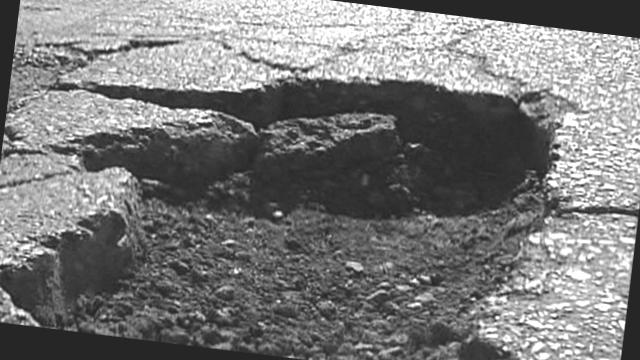Pothole: (0, 4, 617, 360)
